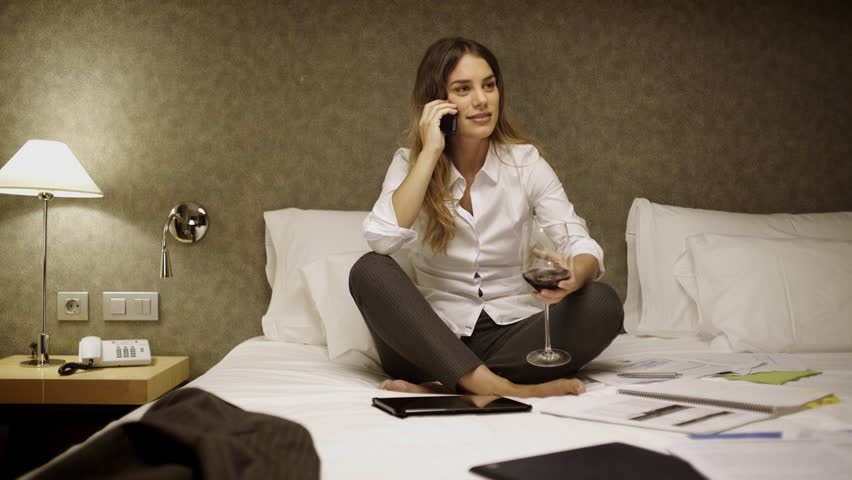phone: (419, 94, 463, 140)
talk: (411, 71, 502, 164)
